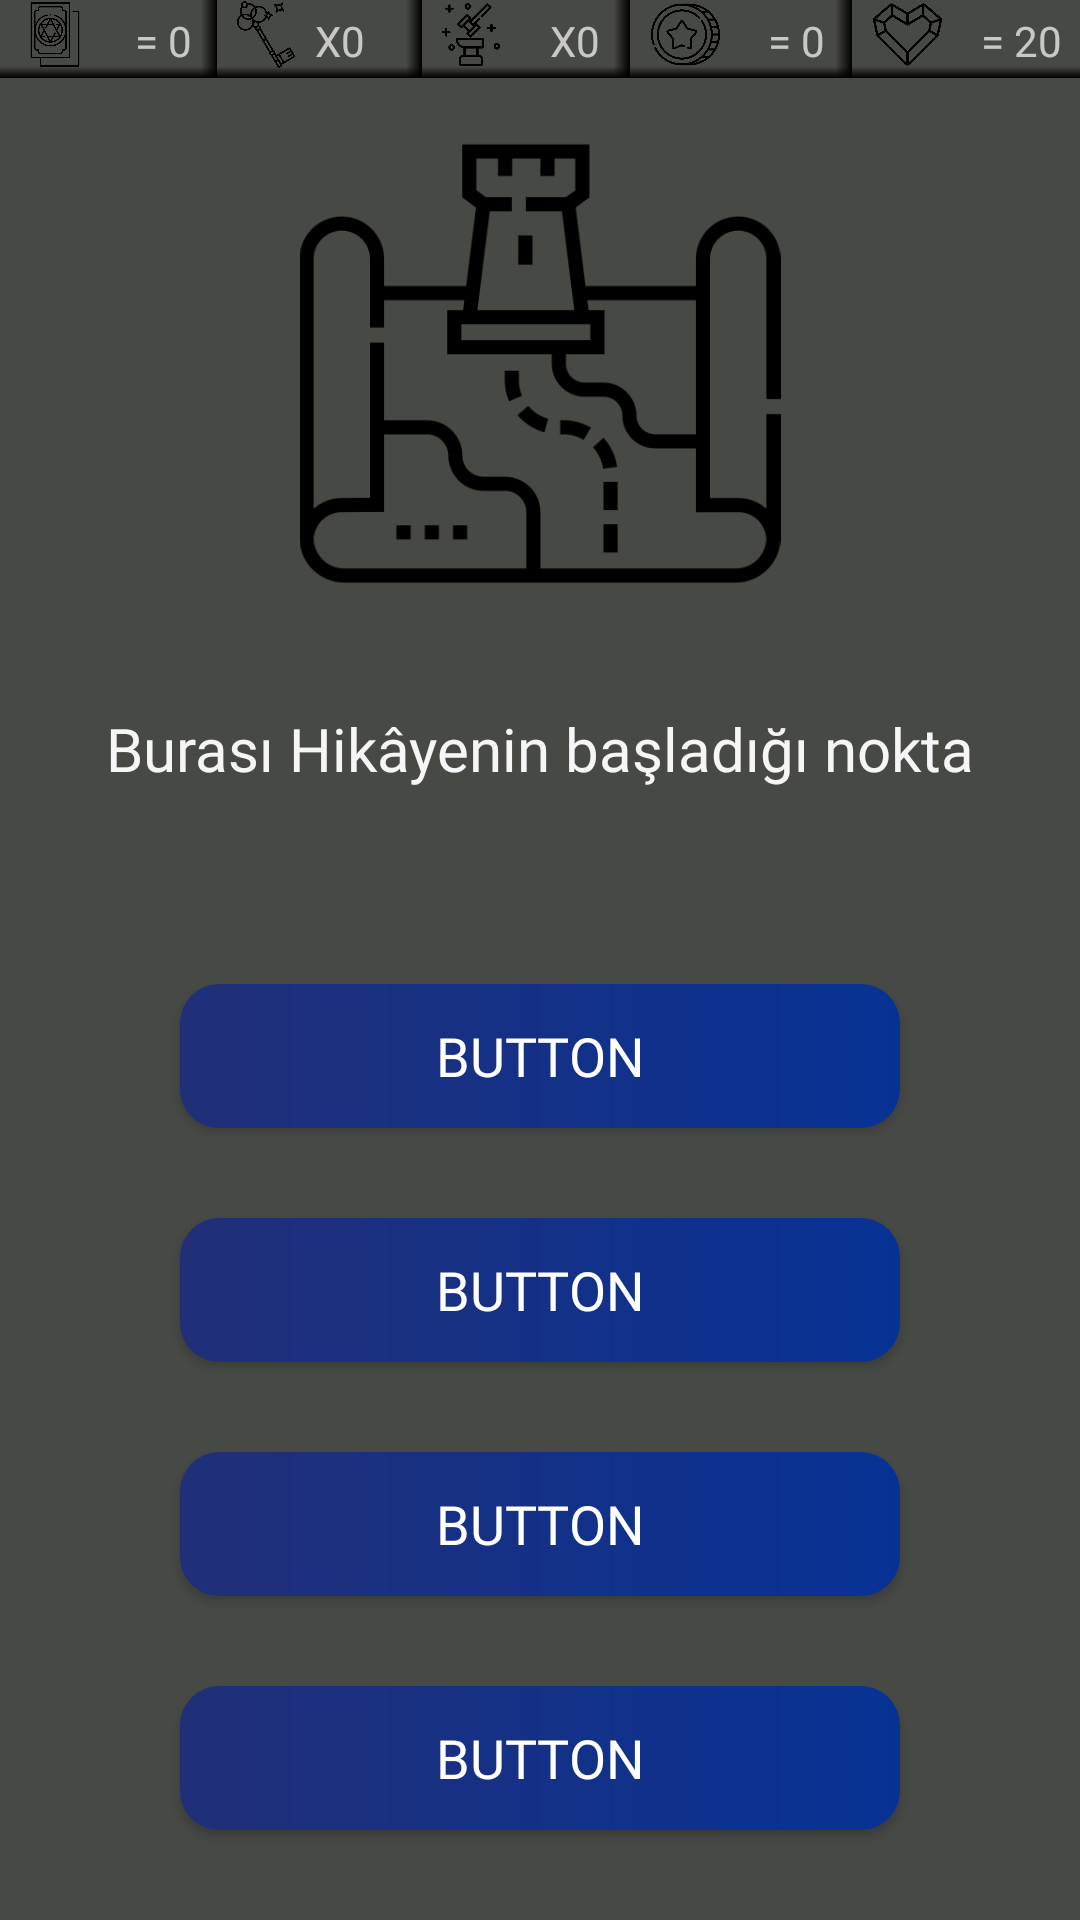

Icons on this 1080 × 1920 Android screen, each with the point to tap as (x,y):
card: (55,34)
key: (266,39)
money: (685,34)
